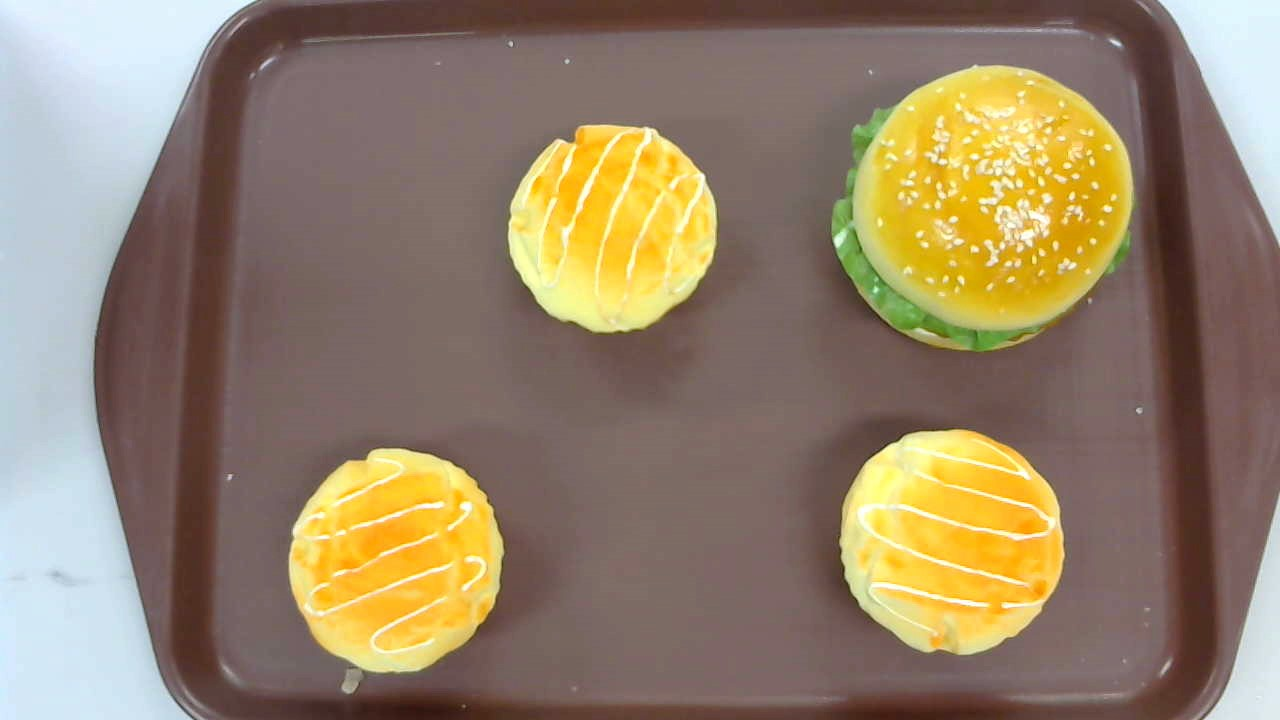cupcake: (839, 428, 1066, 655), (286, 447, 505, 673), (508, 123, 718, 335)
hamburger: (832, 63, 1133, 352)
